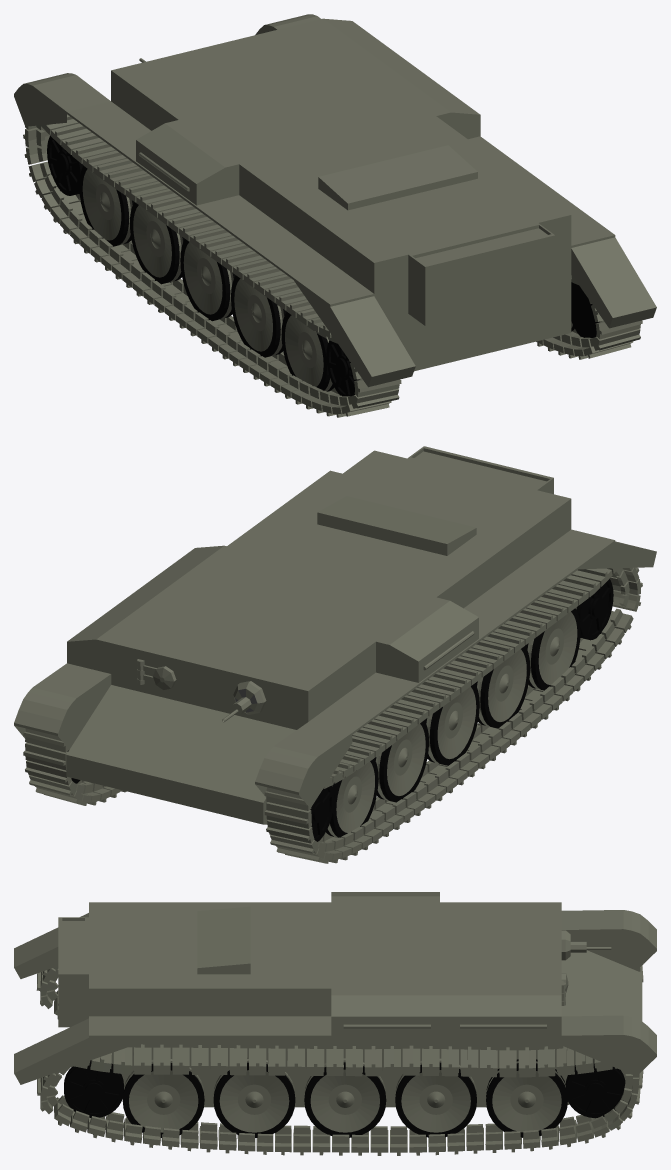
Rendered from CrommwellTankBottom.fbx.
The picture shows the model from 3 angles, top to bottom: view 1: azimuth 30°, elevation 25°; view 2: azimuth 150°, elevation 25°; view 3: azimuth 270°, elevation 25°; orthographic projection. The views are drawn at different scales.
Visible parts, largest first — view 1: CromwellBottom; view 2: CromwellBottom; view 3: CromwellBottom.
Boxes of the visible parts, x1,y1,x2,y2 form: CromwellBottom: [14, 14, 656, 417]; CromwellBottom: [14, 446, 656, 863]; CromwellBottom: [14, 892, 656, 1155].
Bounding box in the file's own units: 458 × 270 × 982.
